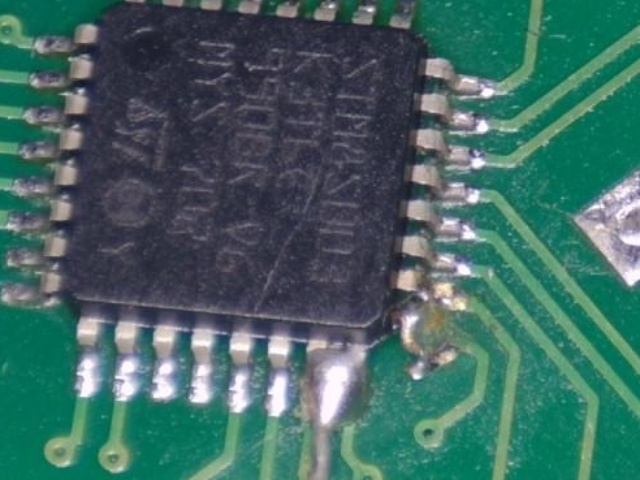pcb_defect: (573, 166, 640, 285), (302, 327, 366, 427), (400, 311, 478, 382)
